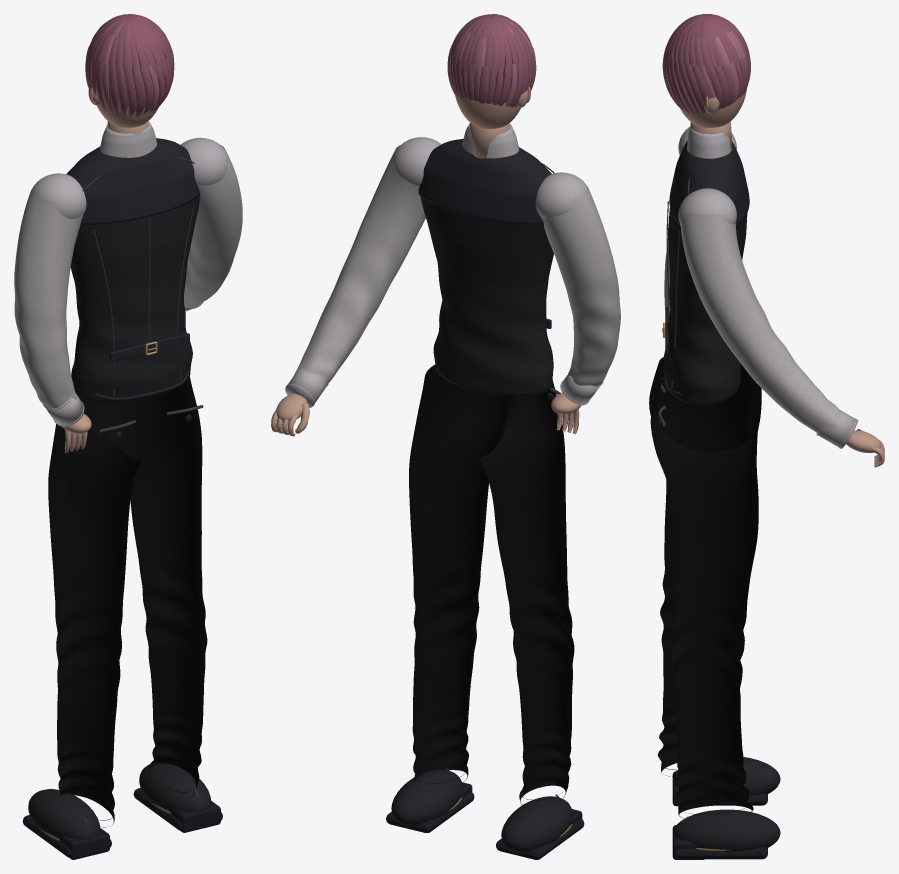
File: salon-guest.glb
3 renders of one model, left to right at view 1: azimuth 30°, elevation 25°; view 2: azimuth 150°, elevation 25°; view 3: azimuth 270°, elevation 25°, orthographic.
Parts seen in each view (by area): view 1: guest-trousers, guest-shirt, guest-vest, guest-yoke, guest-hair, guest-shoe, guest-sole, guest-skin, guest-seam, guest-hairlight; view 2: guest-trousers, guest-shirt, guest-vest, guest-yoke, guest-hair, guest-shoe, guest-skin, guest-sole, guest-hairlight; view 3: guest-trousers, guest-shirt, guest-vest, guest-hair, guest-shoe, guest-yoke, guest-skin, guest-sole, guest-hairlight, guest-seam.
Boxes of the visible parts, <box> form: guest-trousers: <box>48,377,207,827</box>; guest-shirt: <box>14,121,242,426</box>; guest-vest: <box>70,196,199,402</box>; guest-yoke: <box>66,138,200,438</box>; guest-hair: <box>85,14,174,116</box>; guest-shoe: <box>28,763,211,839</box>; guest-sole: <box>22,788,222,859</box>; guest-skin: <box>62,87,159,453</box>; guest-seam: <box>82,157,203,823</box>; guest-hairlight: <box>85,17,159,113</box>; guest-trousers: <box>409,364,574,807</box>; guest-shirt: <box>285,122,620,407</box>; guest-vest: <box>420,196,553,395</box>; guest-yoke: <box>418,138,553,399</box>; guest-hair: <box>447,14,535,107</box>; guest-shoe: <box>391,769,572,853</box>; guest-skin: <box>271,87,581,436</box>; guest-sole: <box>386,782,584,859</box>; guest-hairlight: <box>448,18,536,106</box>; guest-trousers: <box>649,357,761,818</box>; guest-shirt: <box>664,127,858,448</box>; guest-vest: <box>663,208,747,405</box>; guest-hair: <box>662,14,750,113</box>; guest-shoe: <box>673,757,780,851</box>; guest-yoke: <box>658,141,749,426</box>; guest-skin: <box>680,88,884,467</box>; guest-sole: <box>672,771,767,859</box>; guest-hairlight: <box>663,14,746,103</box>; guest-seam: <box>658,178,689,822</box>.
Bounding box in the file's own units: 2.35 × 7.16 × 1.89.
15 materials, 3 textured.
